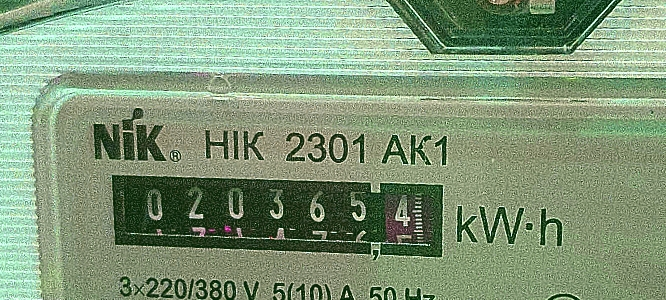0: (224, 184, 246, 221), (142, 186, 165, 221)
2: (182, 183, 207, 221)
3: (265, 184, 286, 220)
4: (391, 191, 413, 227)
5: (346, 188, 368, 222)
6: (305, 187, 327, 224)
screen: (90, 149, 465, 278)
